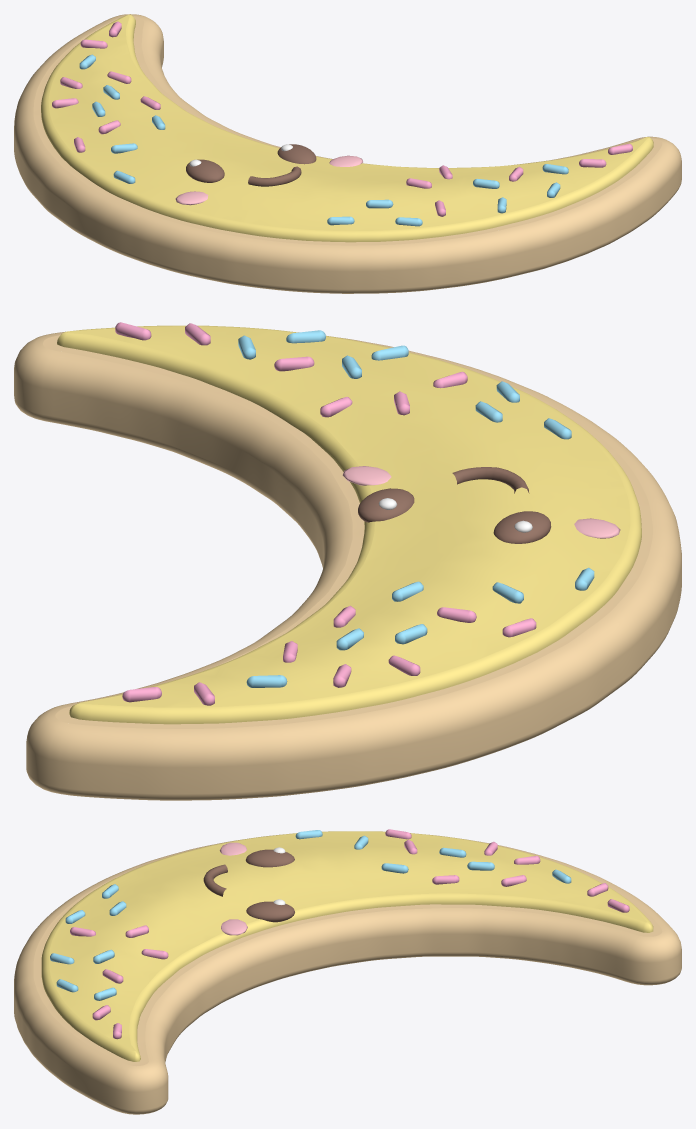
The model's file is MoonCookie.glb.
3 renders of one model, top to bottom at view 1: azimuth 30°, elevation 25°; view 2: azimuth 150°, elevation 25°; view 3: azimuth 270°, elevation 25°, orthographic. The views are drawn at different scales.
Parts seen in each view (by area): view 1: Icing, Cookie, Sprinkles, Sprinkles2, Face, Cheeks; view 2: Icing, Cookie, Sprinkles, Sprinkles2, Face, Cheeks; view 3: Icing, Cookie, Sprinkles, Sprinkles2, Face, Cheeks.
Part boxes in pixels (x1,y1,x2,y2): Icing: [41, 14, 653, 242]; Cookie: [14, 14, 681, 293]; Sprinkles: [52, 21, 632, 216]; Sprinkles2: [79, 54, 568, 226]; Face: [186, 144, 316, 186]; Cheeks: [175, 155, 362, 205]; Icing: [57, 325, 641, 724]; Cookie: [14, 331, 681, 800]; Sprinkles: [115, 322, 536, 705]; Sprinkles2: [238, 330, 594, 687]; Face: [358, 467, 551, 543]; Cheeks: [342, 466, 620, 538]; Icing: [41, 831, 653, 1061]; Cookie: [14, 834, 681, 1114]; Sprinkles: [70, 829, 629, 1039]; Sprinkles2: [50, 830, 571, 1000]; Face: [203, 849, 294, 922]; Cheeks: [219, 842, 247, 935].
Size of the model in its own units: 9.01 by 1.14 by 10.18.
